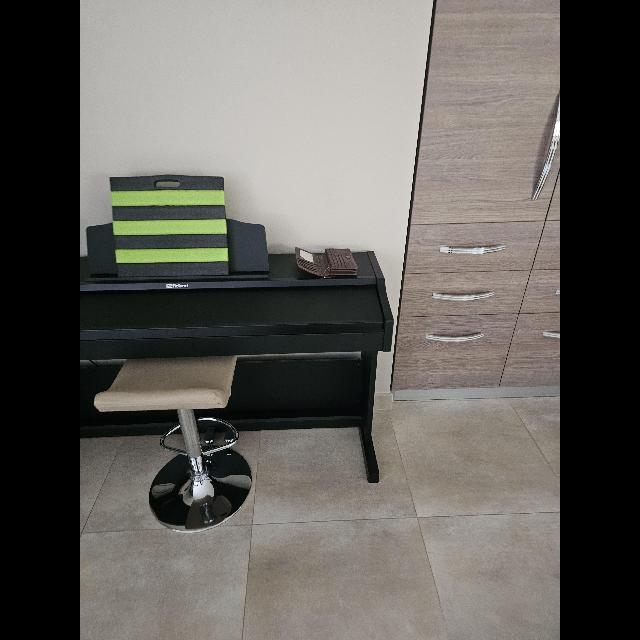Wallet: (294, 246, 360, 278)
